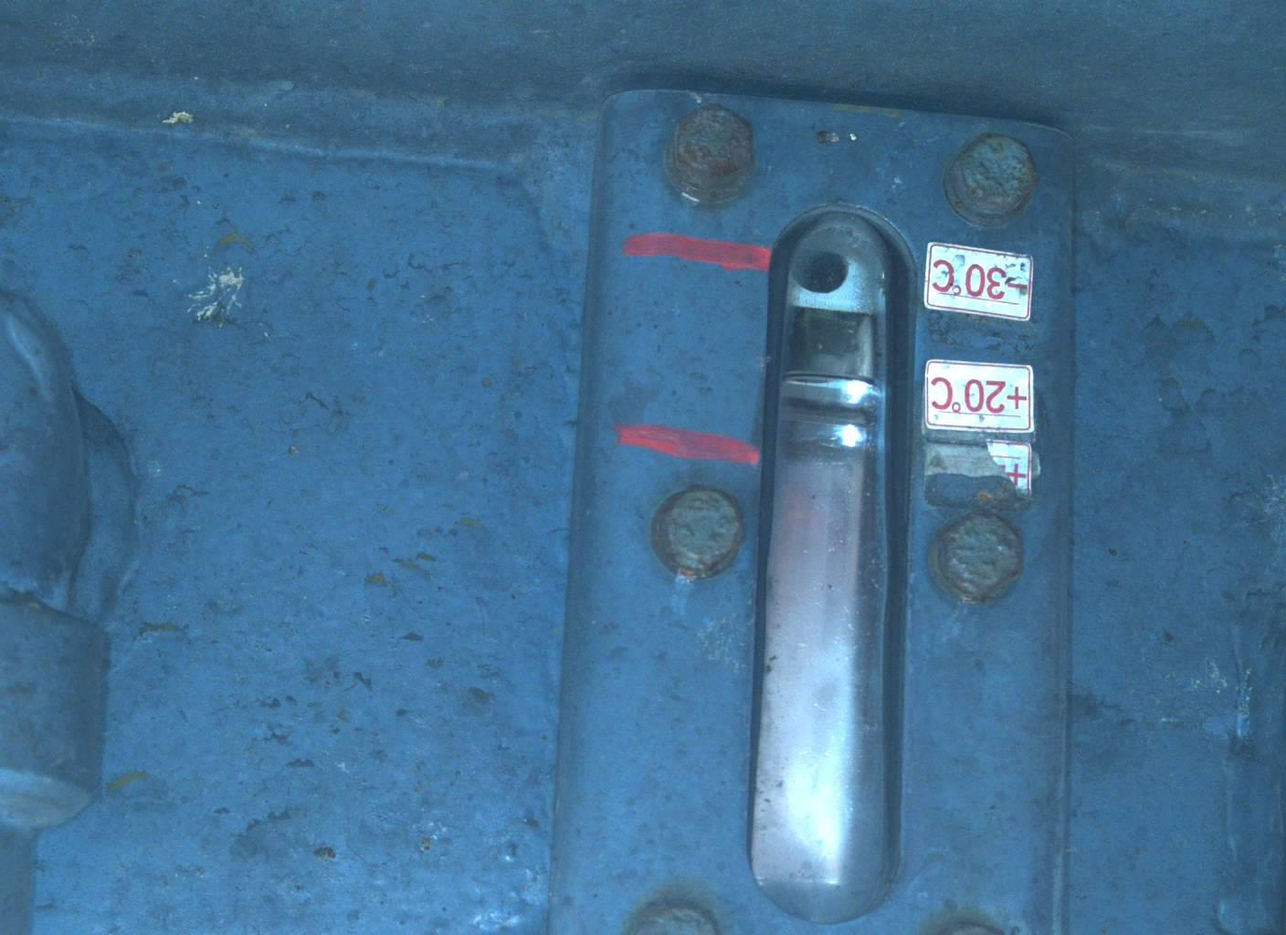oil_level_gauge: (604, 97, 1043, 930)
